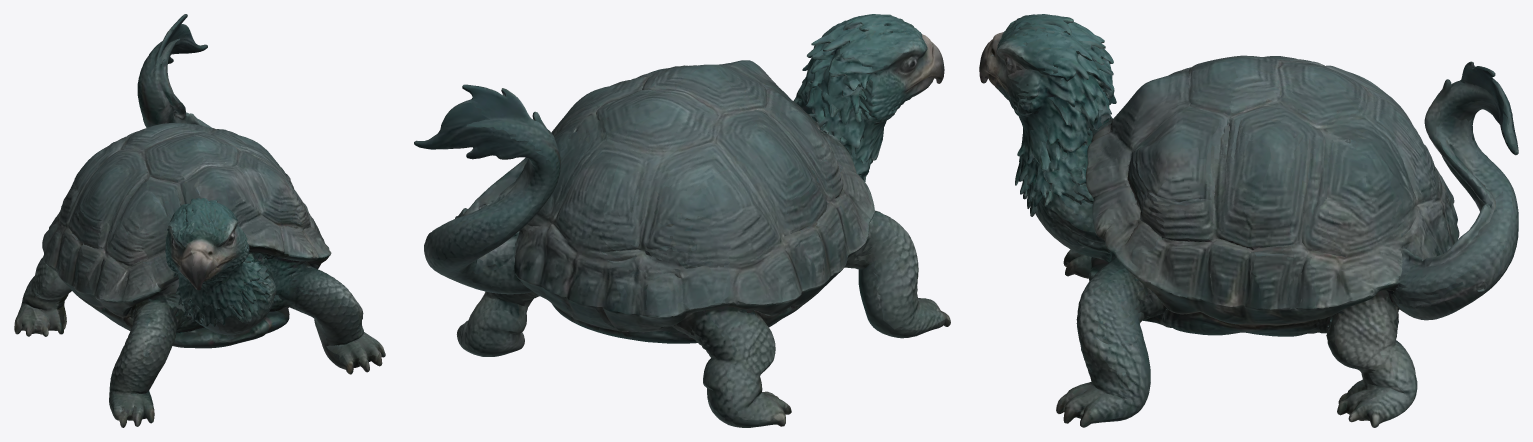
File: xuangui.glb
The picture shows the model from 3 angles, left to right: view 1: azimuth 30°, elevation 25°; view 2: azimuth 150°, elevation 25°; view 3: azimuth 270°, elevation 25°; orthographic projection. The views are drawn at different scales.
Visible parts, largest first — view 1: geometry_0; view 2: geometry_0; view 3: geometry_0.
Boxes of the visible parts, bbox=[...] form: geometry_0: bbox=[14, 14, 385, 427]; geometry_0: bbox=[414, 14, 950, 427]; geometry_0: bbox=[979, 14, 1518, 427].
Size of the model in its own units: 0.45 by 0.3928 by 0.5786.
1 material, 1 textured.
